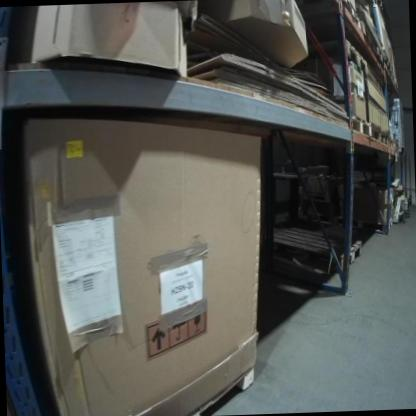pallet: (270, 222, 364, 268), (180, 365, 257, 414), (309, 36, 369, 75), (363, 10, 388, 65), (330, 0, 364, 27), (348, 111, 373, 137), (372, 126, 381, 143), (381, 132, 389, 149), (391, 138, 394, 152)
pallet_truck: (388, 151, 411, 230), (404, 155, 414, 210)
stillage: (389, 95, 407, 149)
